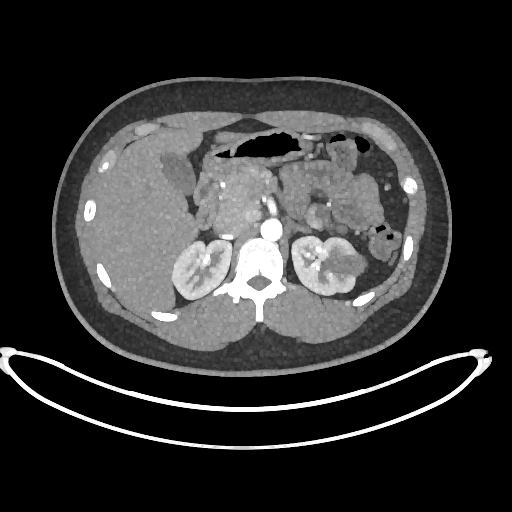Lesion: (323, 246, 369, 279)
